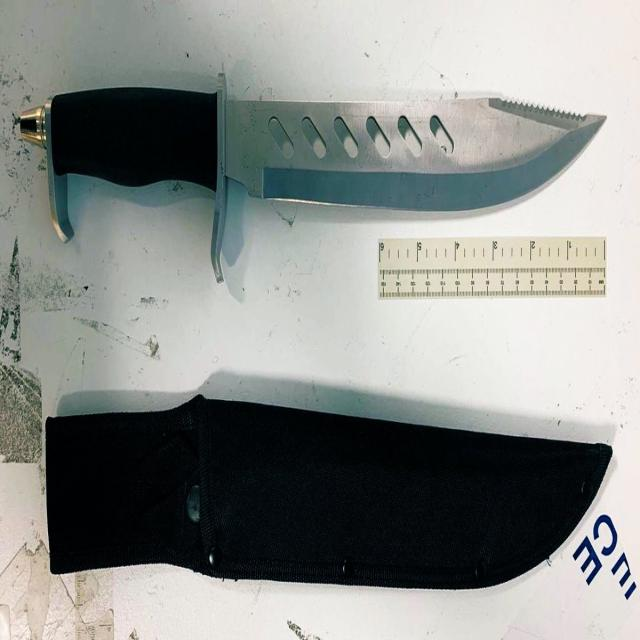Sharp-Object: (21, 83, 608, 284)
